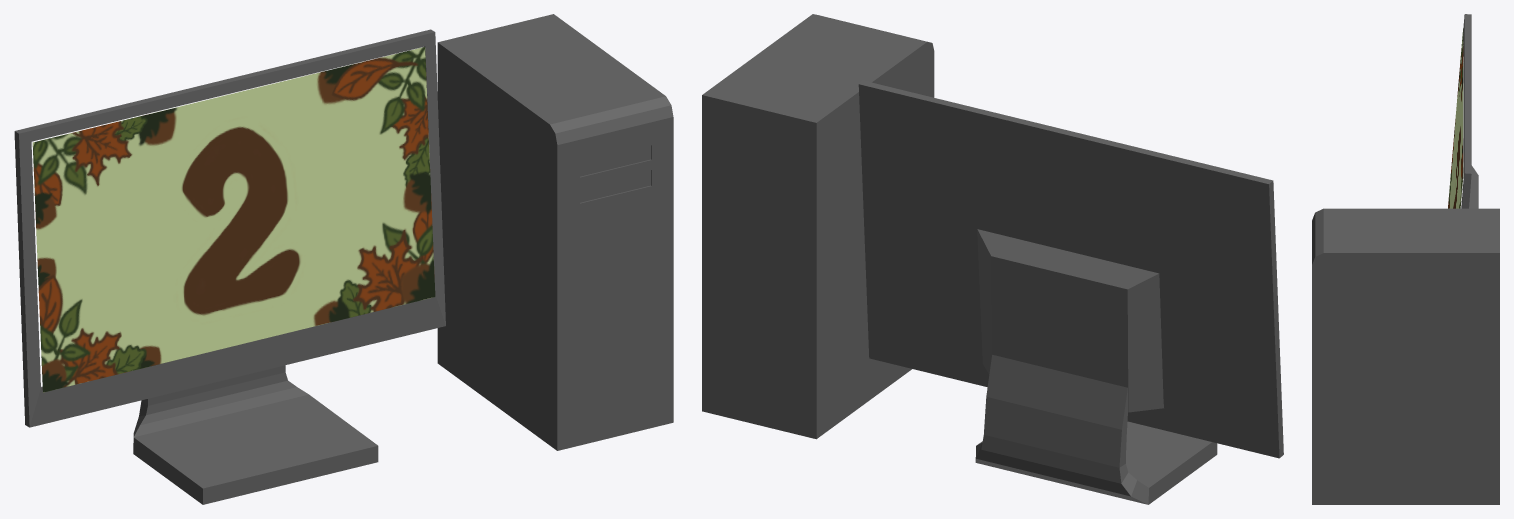
The model's file is computer2.gltf.
The picture shows the model from 3 angles, left to right: view 1: azimuth 30°, elevation 25°; view 2: azimuth 150°, elevation 25°; view 3: azimuth 270°, elevation 25°; orthographic projection. The views are drawn at different scales.
Parts seen in each view (by area): view 1: computer.001, Fläche.001; view 2: computer.001; view 3: computer.001, Fläche.001.
Boxes of the visible parts, bbox=[...] form: computer.001: bbox=[14, 14, 673, 504]; Fläche.001: bbox=[32, 47, 435, 392]; computer.001: bbox=[702, 14, 1283, 504]; computer.001: bbox=[1312, 14, 1499, 504]; Fläche.001: bbox=[1448, 28, 1463, 208].
Bounding box in the file's own units: 5.37 × 3.26 × 2.
3 materials, 1 textured.
